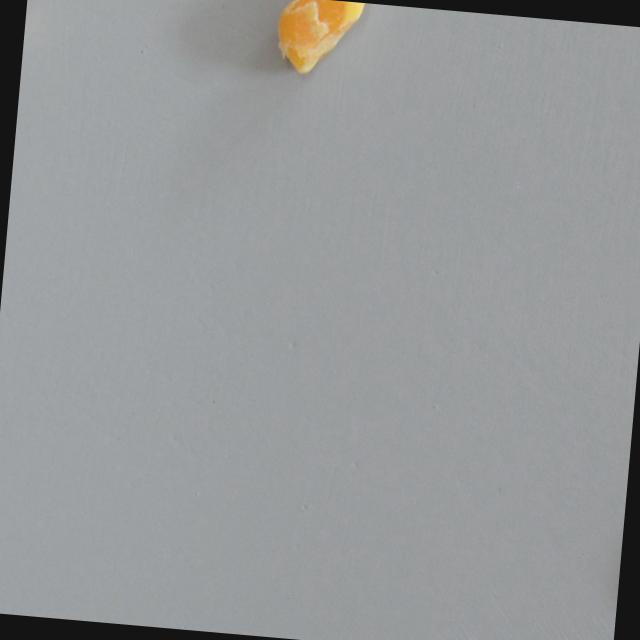pelicula: (265, 0, 375, 84)
